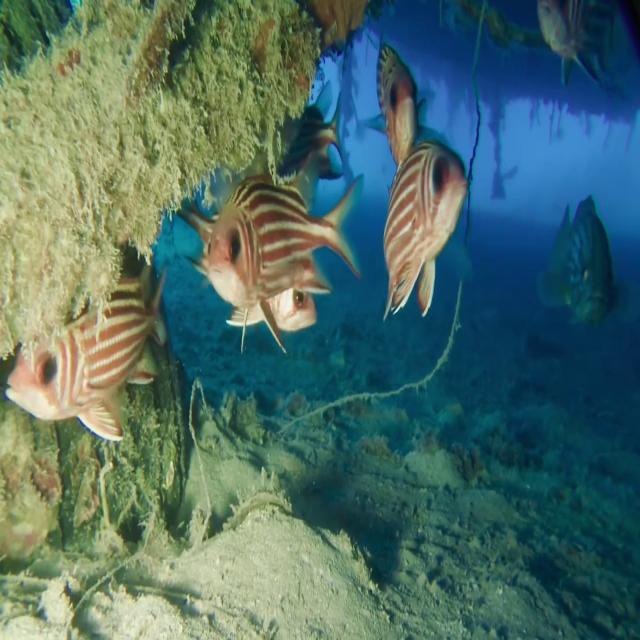Asker Baligi: (176, 169, 364, 355), (4, 260, 168, 443), (372, 39, 471, 323)
